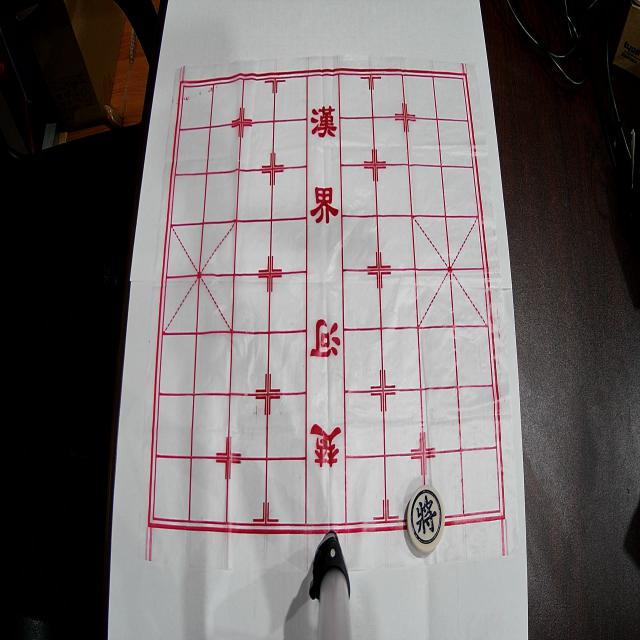black-general: (407, 485, 445, 553)
